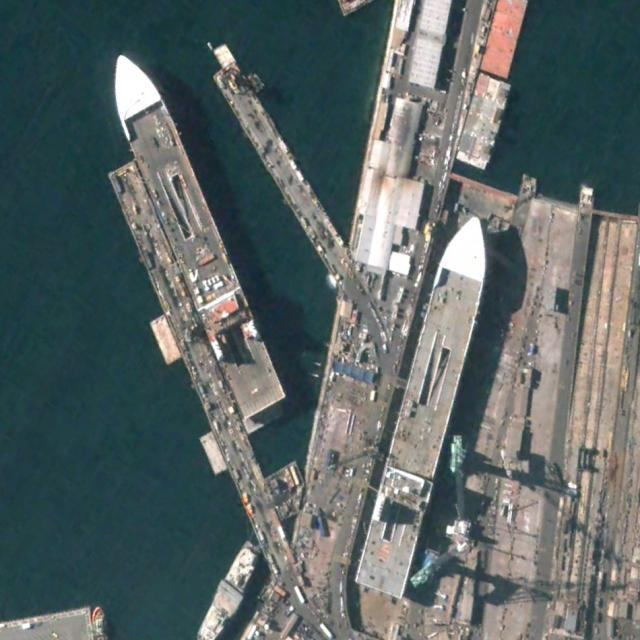Cargo: (99, 41, 286, 422), (352, 206, 502, 600)
